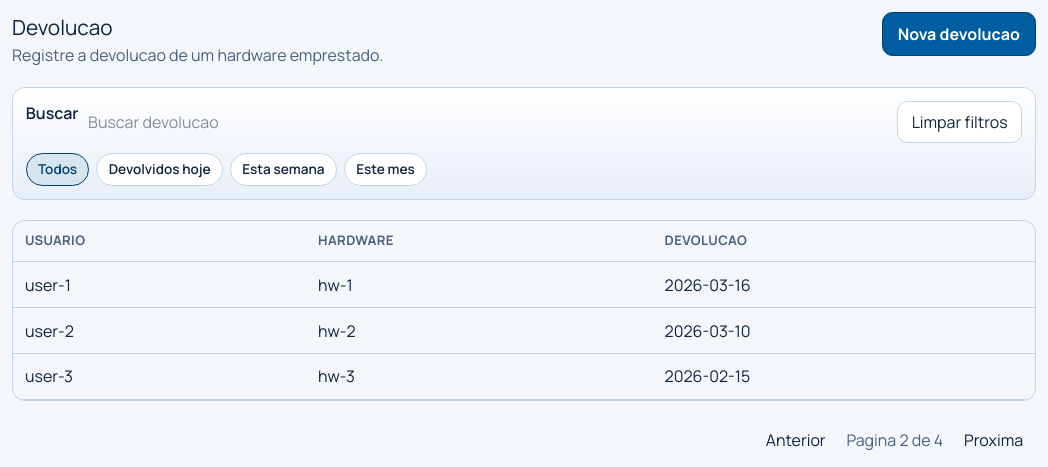
it: DevolucaoPage listing flow › filters devolucoes client-side by selected date preset
The image size is (1048, 467).
expect the cell "user-1" is shown: met, box x1=13 y1=262 x2=306 y2=308
expect the cell "user-2" is shown: met, box x1=13 y1=308 x2=306 y2=354
Step 1. Click the button "Devolvidos hoje" → (160,169), box x1=96 y1=153 x2=223 y2=186
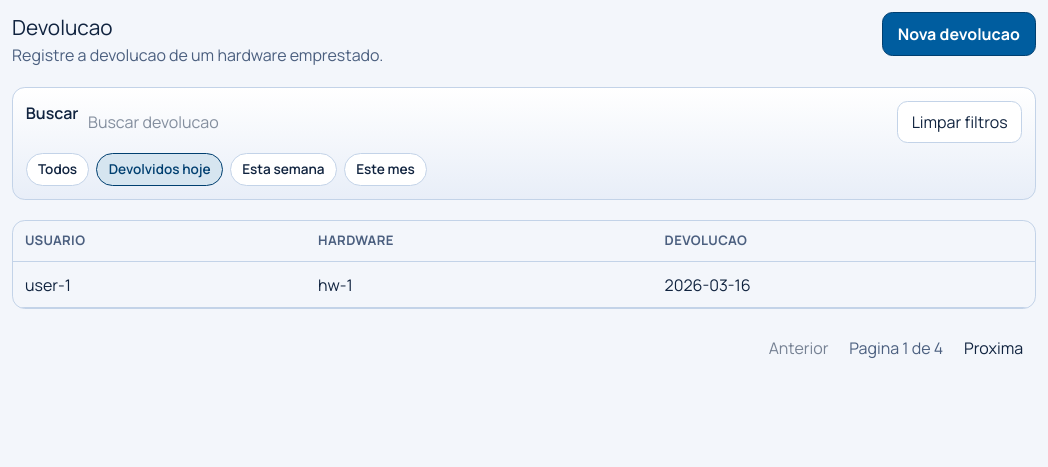
expect the cell "user-1" is shown: met, box x1=13 y1=262 x2=306 y2=308
expect the cell "user-3" is gone: met
Step 2. Click the button "Este mes" → (386,169), box x1=344 y1=153 x2=427 y2=186
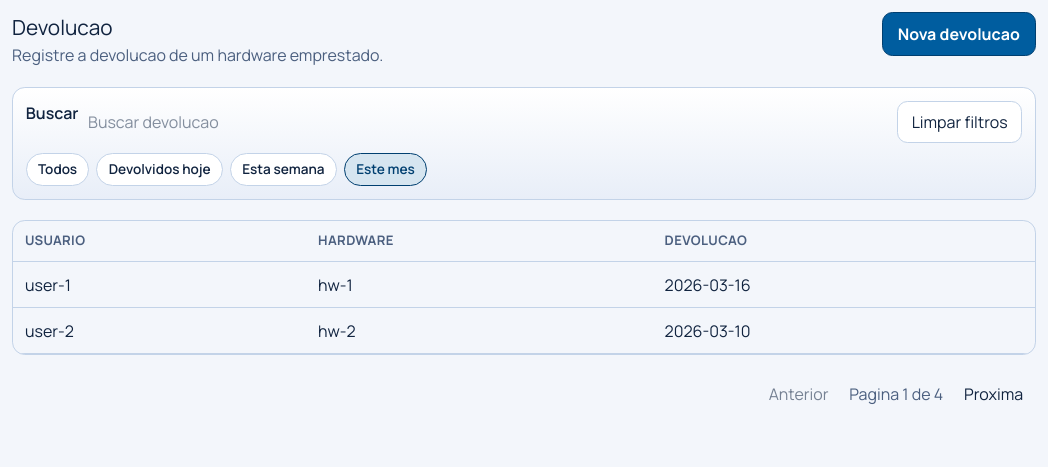
expect the cell "user-1" is shown: met, box x1=13 y1=262 x2=306 y2=308
expect the cell "user-2" is shown: met, box x1=13 y1=308 x2=306 y2=354
